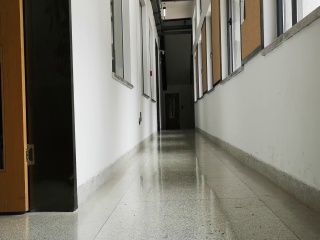room: (1, 1, 80, 219)
